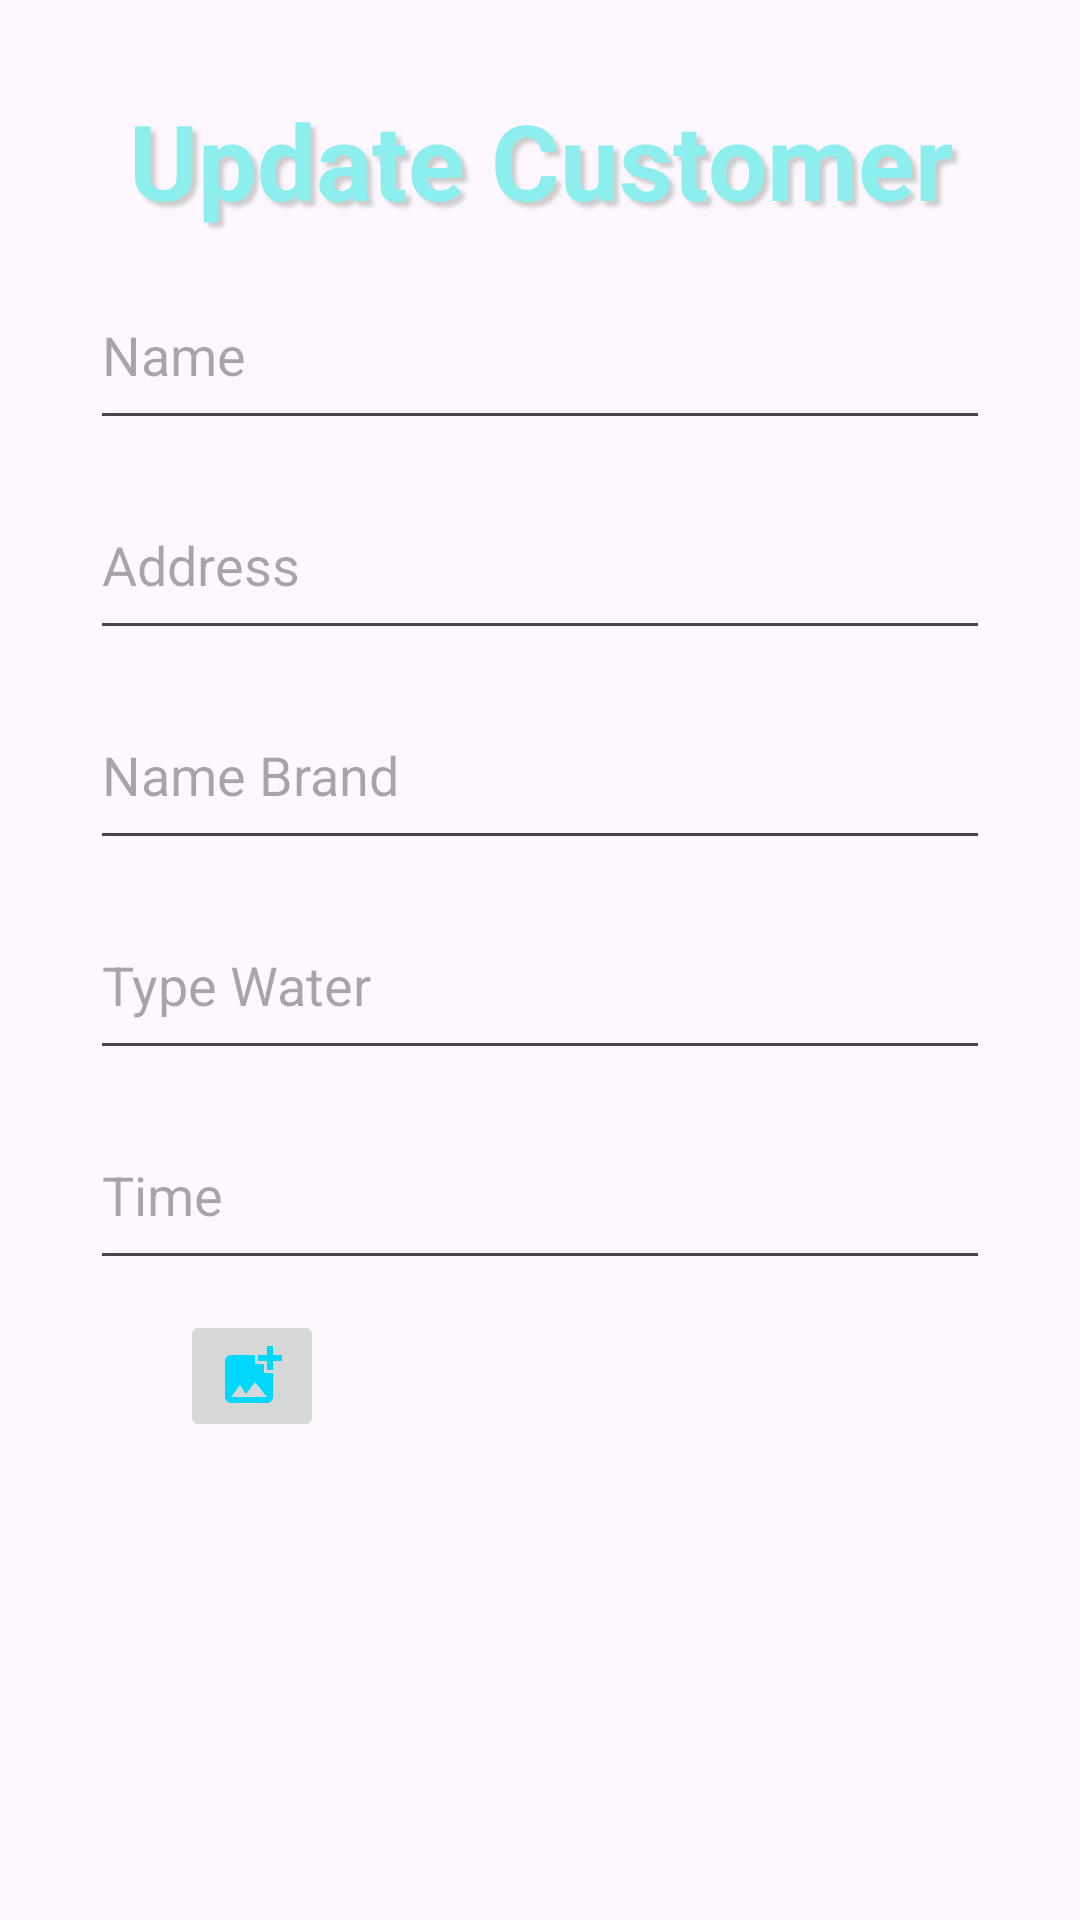

Icon click points for this 1080*1920 phone screenshot, format (x=x, y=y):
add photo alternate: (x=252, y=1376)
